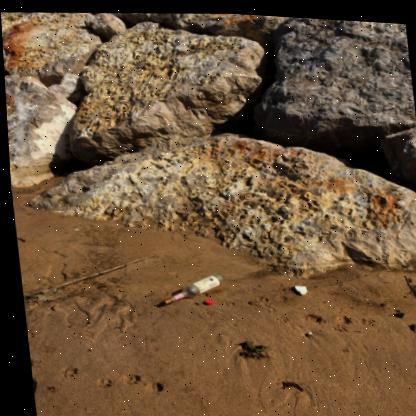Plastic: (164, 269, 220, 299), (18, 286, 60, 300), (239, 336, 261, 347)
Waste: (289, 281, 302, 290), (200, 296, 209, 301)
